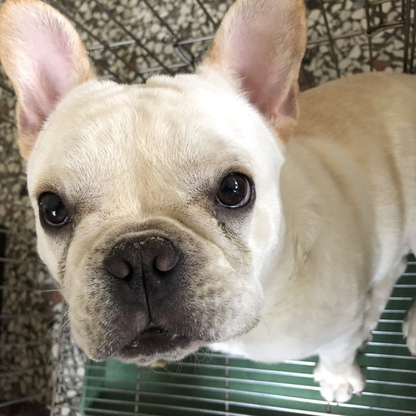bulldog: (2, 3, 416, 407)
